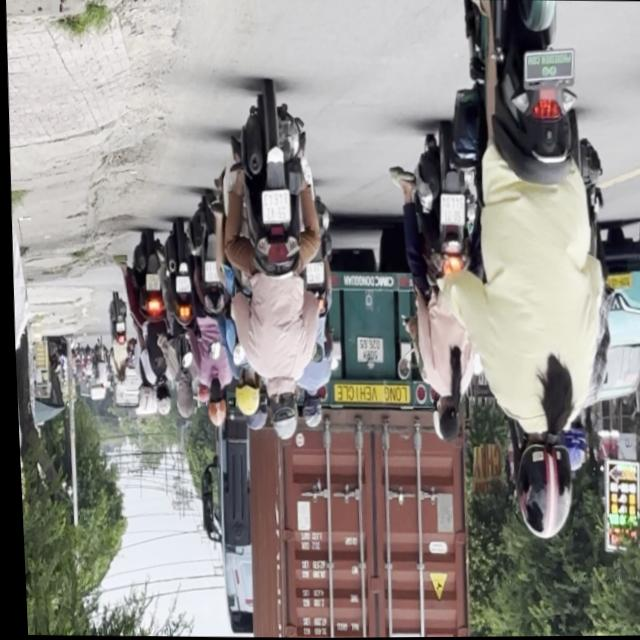helmet: (506, 435, 574, 543), (263, 384, 298, 442), (230, 374, 258, 419), (203, 388, 225, 428), (298, 391, 321, 429)
licenseplate: (427, 0, 623, 546), (207, 82, 336, 445), (383, 122, 483, 451), (178, 194, 242, 430)
motorcyclist: (430, 396, 458, 445)
nohelmet: (260, 190, 289, 224), (440, 194, 465, 226), (302, 262, 322, 284), (203, 261, 218, 283)
